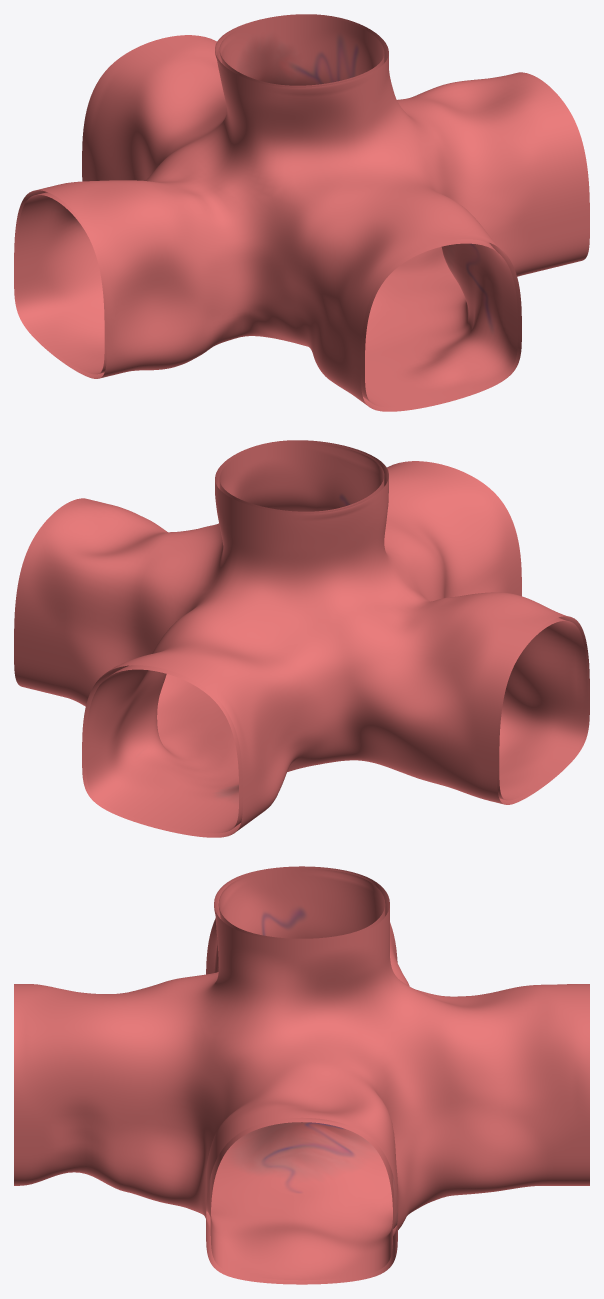
File: cave_crossroad_transit_up.fbx
The picture shows the model from 3 angles, top to bottom: view 1: azimuth 30°, elevation 25°; view 2: azimuth 150°, elevation 25°; view 3: azimuth 270°, elevation 25°; orthographic projection. The views are drawn at different scales.
Visible parts, largest first — view 1: cave_crossroad_transit_up.000; view 2: cave_crossroad_transit_up.000; view 3: cave_crossroad_transit_up.000.
Part boxes in pixels (x1=…): cave_crossroad_transit_up.000: x1=14, y1=14, x2=589, y2=411; cave_crossroad_transit_up.000: x1=14, y1=440, x2=589, y2=837; cave_crossroad_transit_up.000: x1=14, y1=866, x2=589, y2=1284.
Bounding box in the file's own units: 600 × 315 × 600.
Materials: 1 (1 with a texture image).
